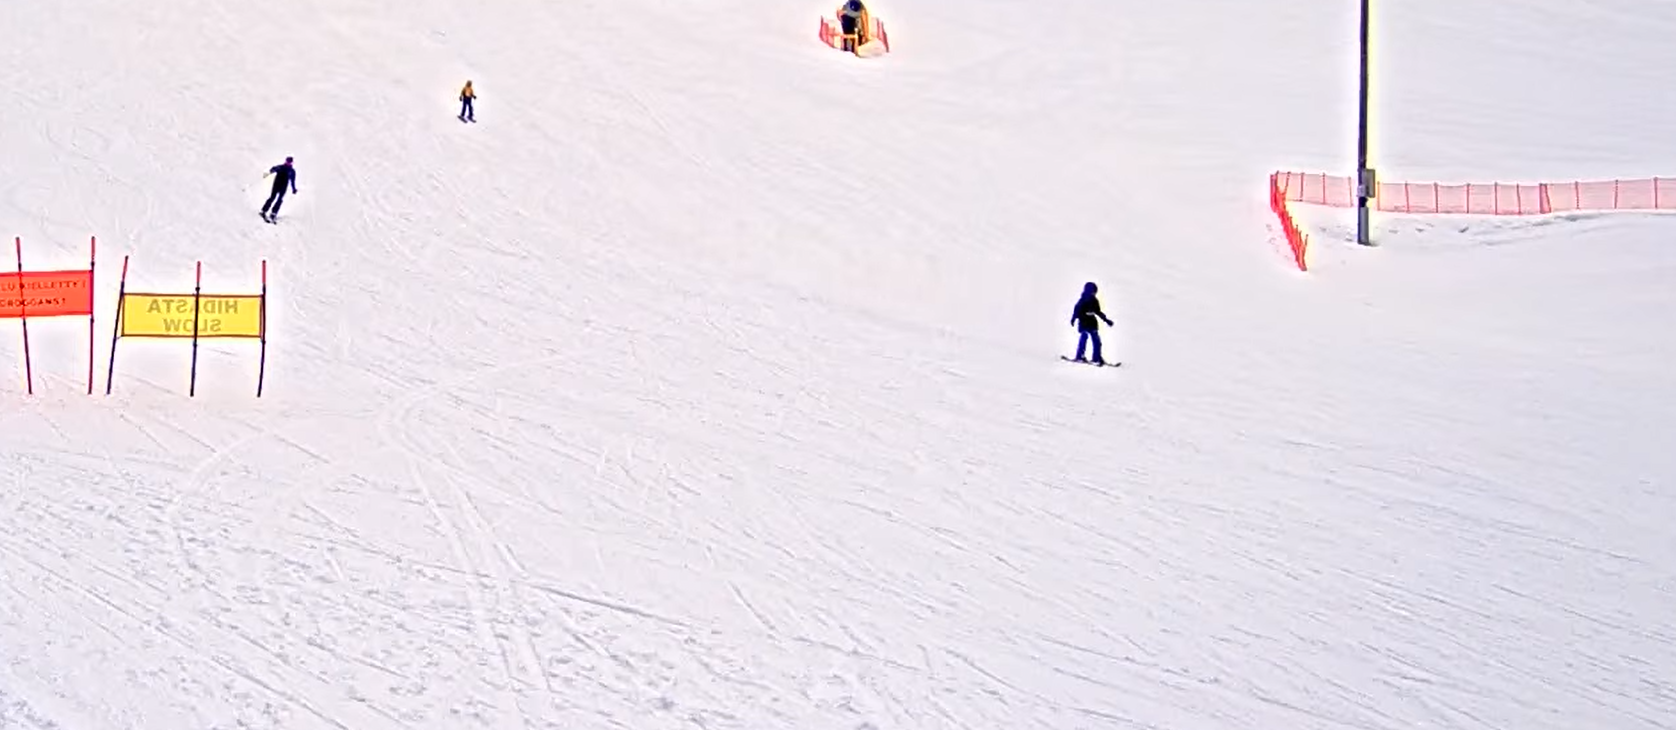skier: (1061, 280, 1121, 367), (240, 151, 298, 226), (455, 75, 477, 123)
